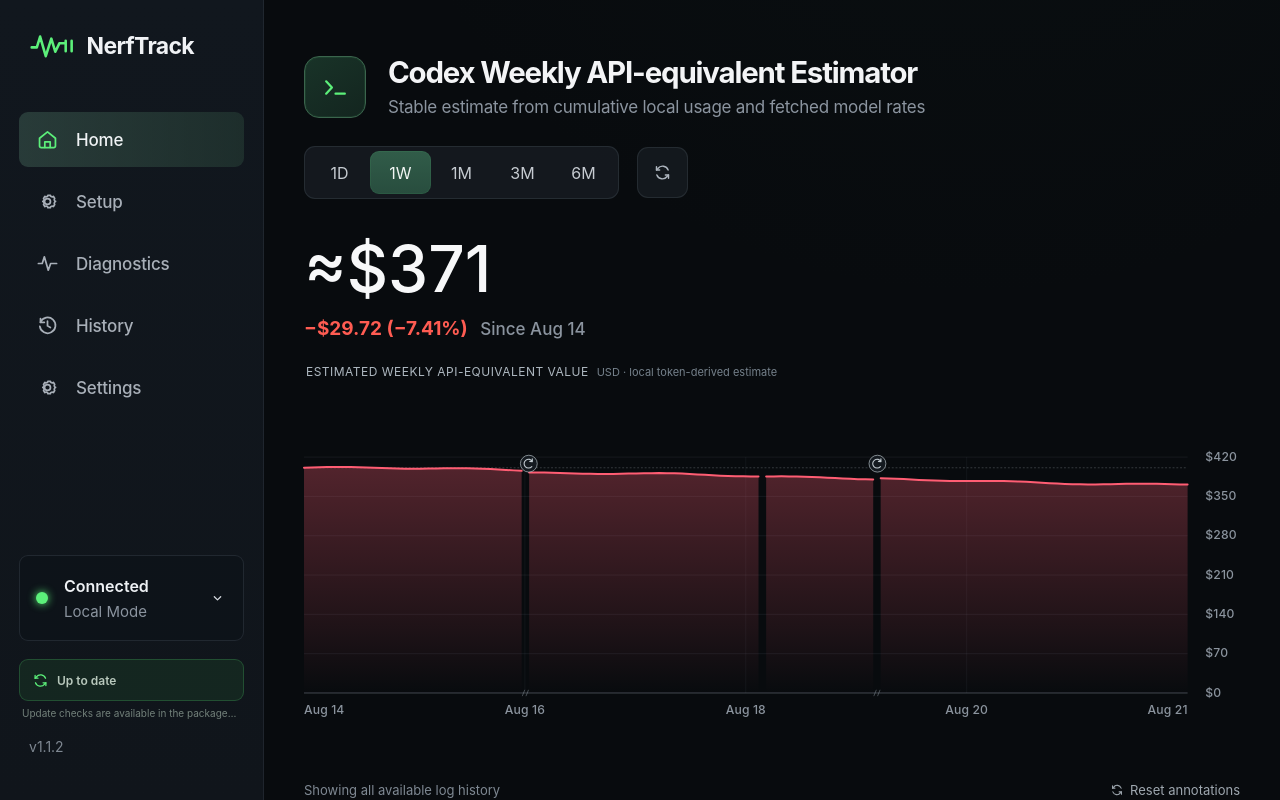
Test case: NerfTrack app shell › navigates to diagnostics without leaking sensitive fields
The image size is (1280, 800).
Click the button "Diagnostics": (132, 264) [19,236,244,291]
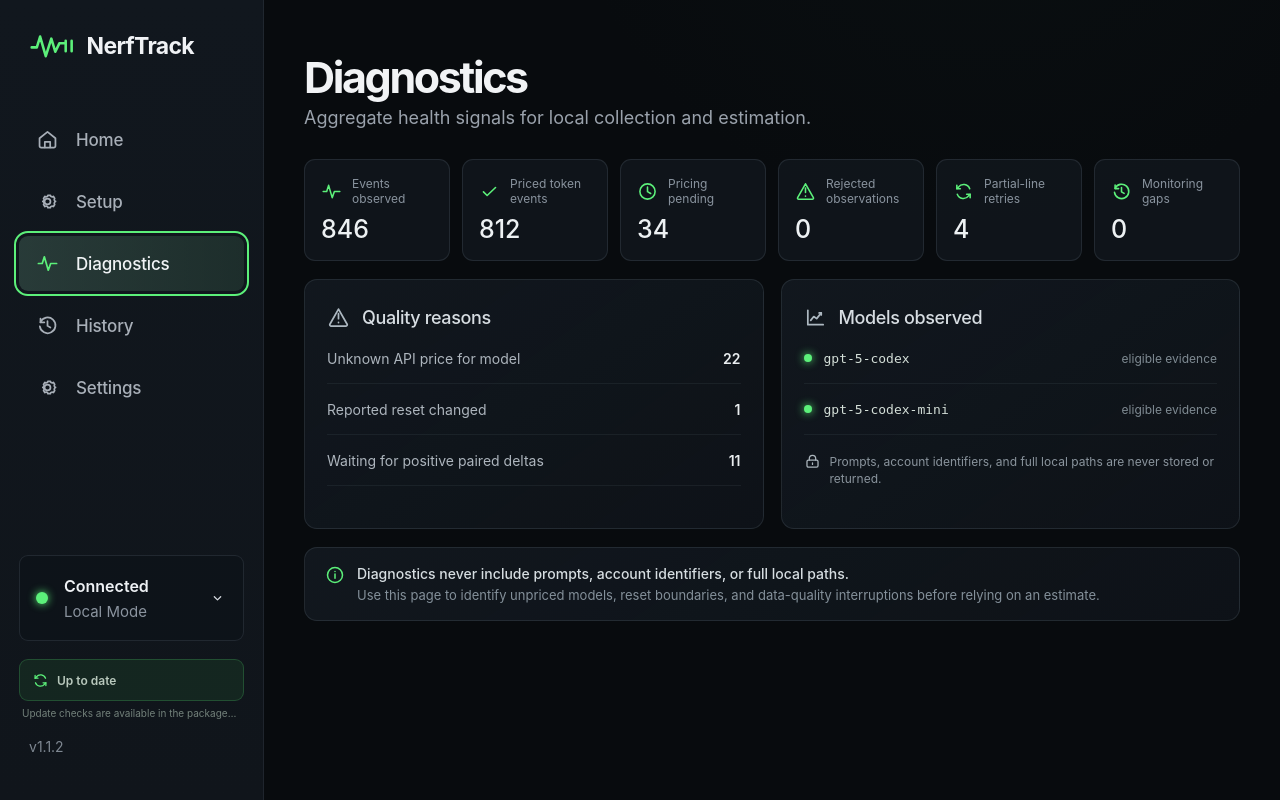
Expected: the heading "Diagnostics" is shown, [304,51,527,103]
Expected: the text "Prompts, account identifiers" is shown, [830,454,1214,486]
